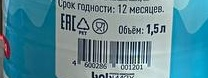1d: (76, 37, 154, 64)
